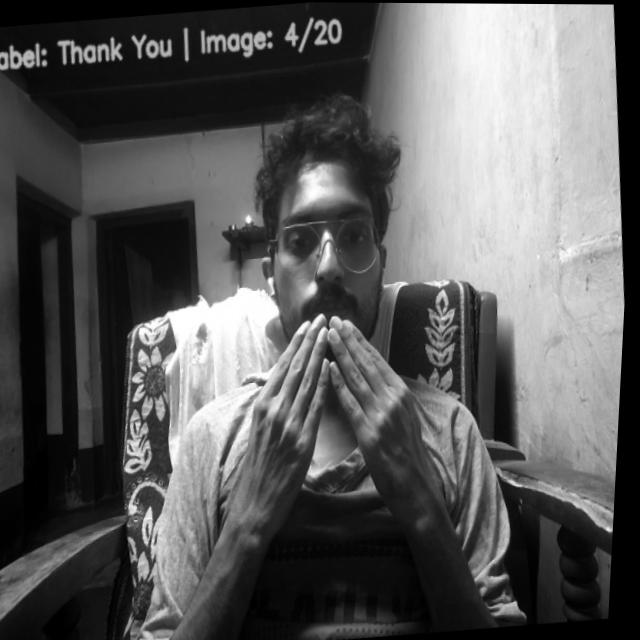Thank You: (208, 299, 467, 580)
